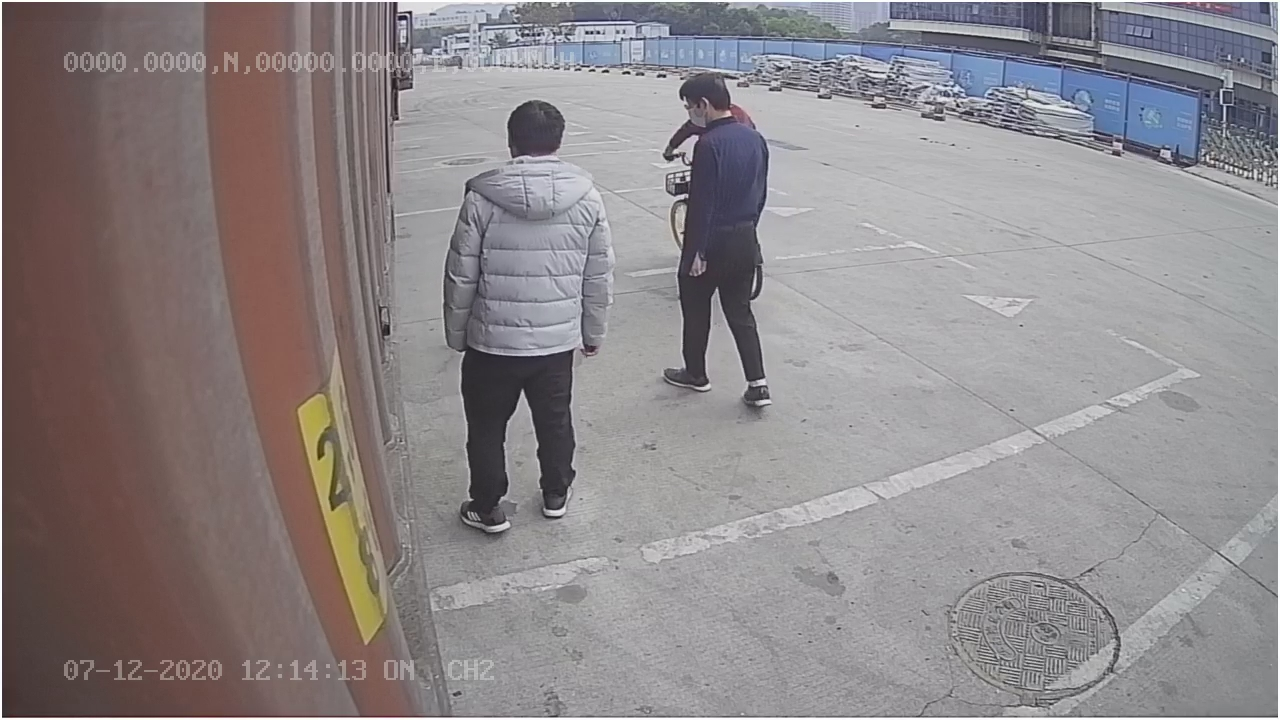person: (443, 79, 613, 538)
